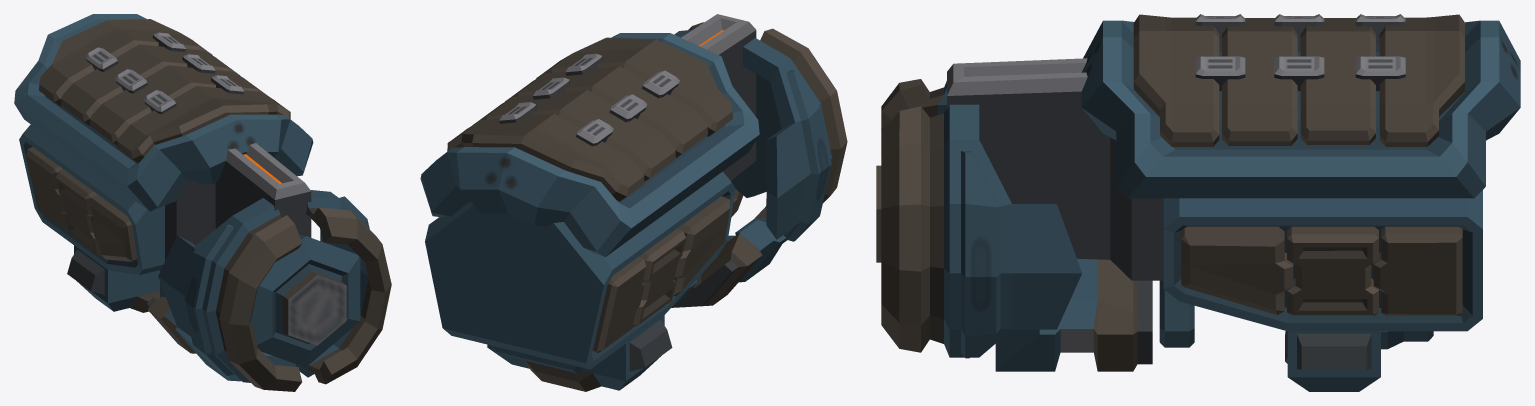
File: SM_Mech_Arm_01_Armor_Forearm_02.fbx
The picture shows the model from 3 angles, left to right: view 1: azimuth 30°, elevation 25°; view 2: azimuth 150°, elevation 25°; view 3: azimuth 270°, elevation 25°; orthographic projection. The views are drawn at different scales.
Visible parts, largest first — view 1: SM_Mech_Arm_01_Armor_Forearm_02; view 2: SM_Mech_Arm_01_Armor_Forearm_02; view 3: SM_Mech_Arm_01_Armor_Forearm_02.
Part boxes in pixels (x1,y1,x2,y2): SM_Mech_Arm_01_Armor_Forearm_02: [14, 14, 391, 391]; SM_Mech_Arm_01_Armor_Forearm_02: [420, 14, 847, 391]; SM_Mech_Arm_01_Armor_Forearm_02: [876, 14, 1520, 391].
Size of the model in its own units: 54.42 by 68.87 by 119.
